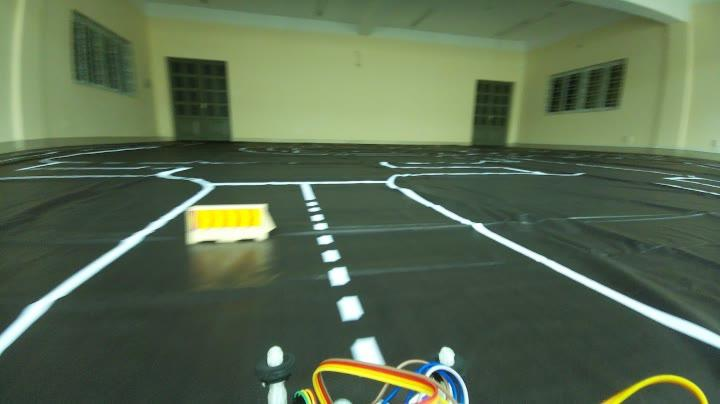roadblock: (179, 202, 275, 245)
